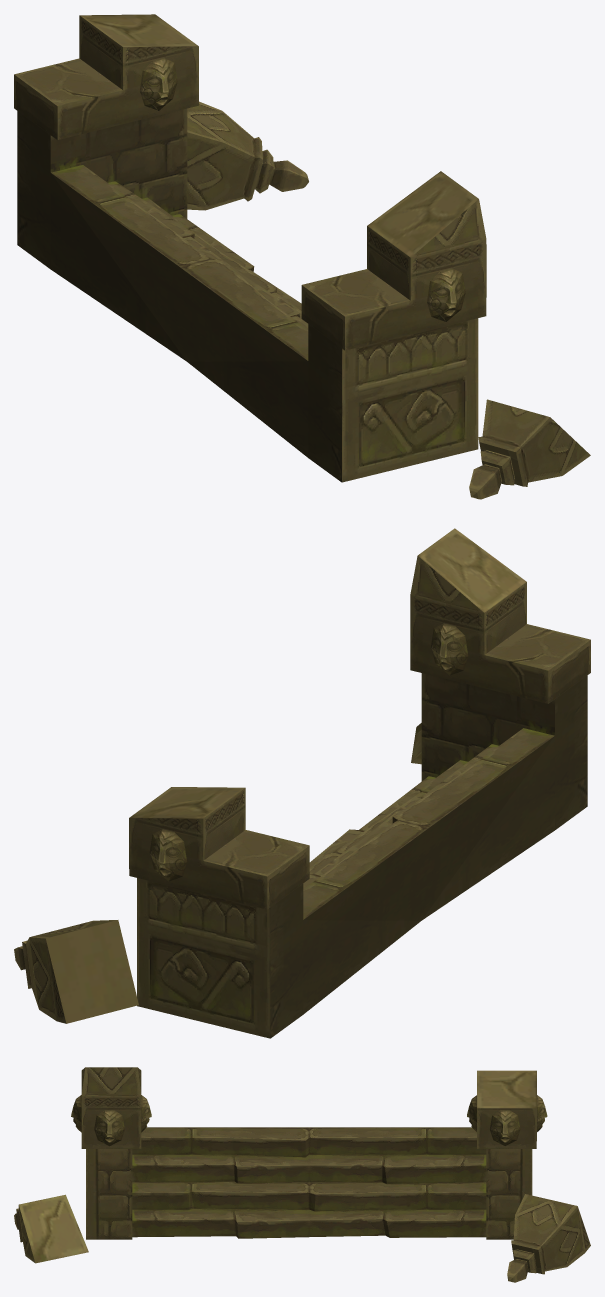
The model's file is stone_bridge_destroyed_01.fbx.
The picture shows the model from 3 angles, top to bottom: view 1: azimuth 30°, elevation 25°; view 2: azimuth 150°, elevation 25°; view 3: azimuth 270°, elevation 25°; orthographic projection. The views are drawn at different scales.
Visible parts, largest first — view 1: obj2.005; view 2: obj2.005; view 3: obj2.005.
Part boxes in pixels (x1,y1,x2,y2): obj2.005: [14, 14, 590, 499]; obj2.005: [14, 528, 590, 1038]; obj2.005: [14, 1067, 590, 1282].
Size of the model in its own units: 2.95 by 2.6 by 7.76.
